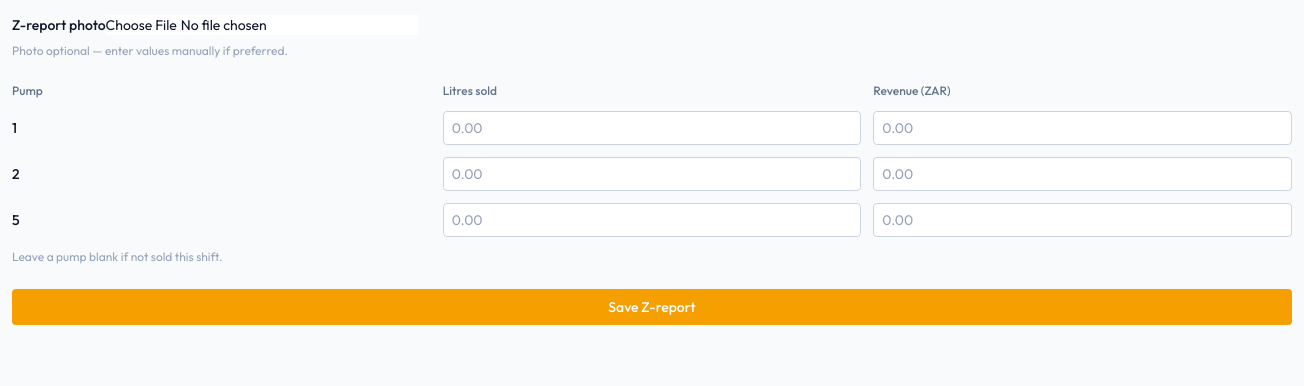
Scenario: NozzlePosForm OCR summary line › does not navigate when save fails
Type "100" into the 1st number field with placeholder "0.00" at (652, 128), box [443,111,861,145]
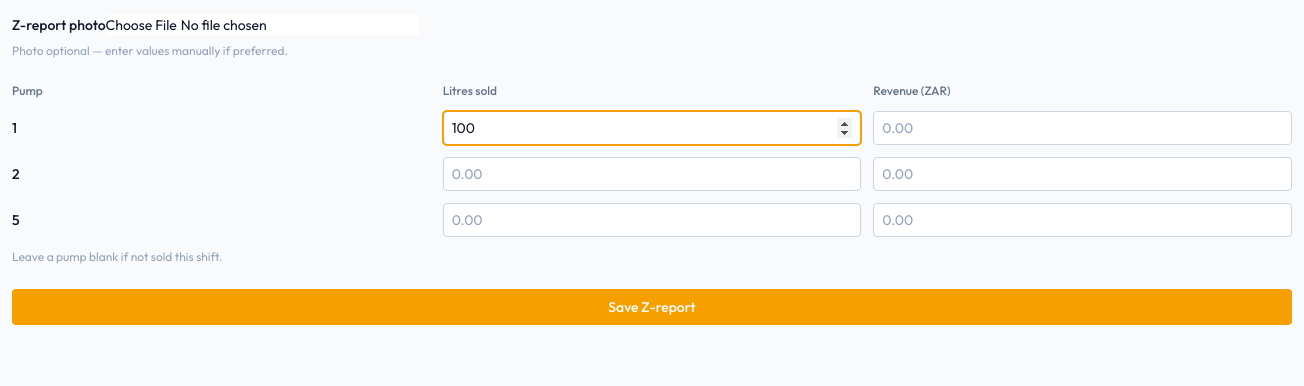
Click the button "Save Z-report" at (652, 307), box [12,289,1292,325]
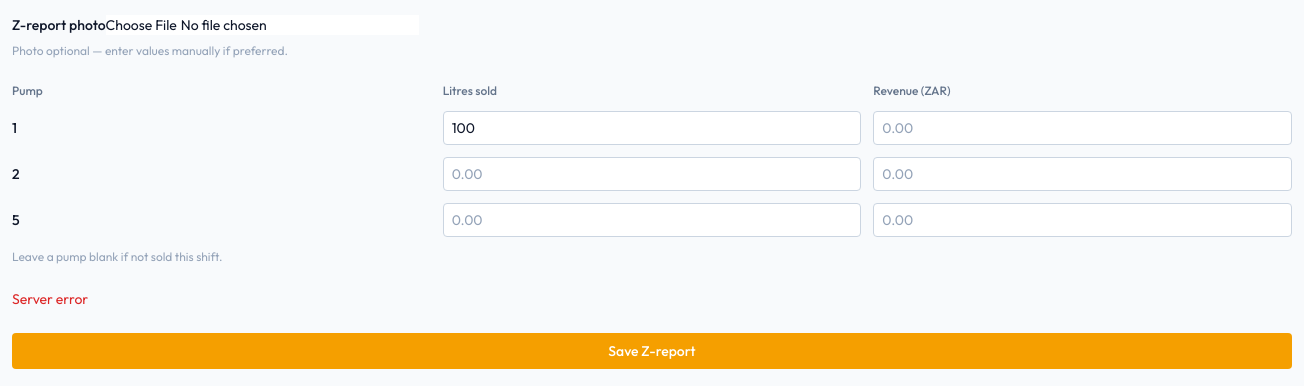
Now the text "Server error" is shown, box [12,290,88,308]
